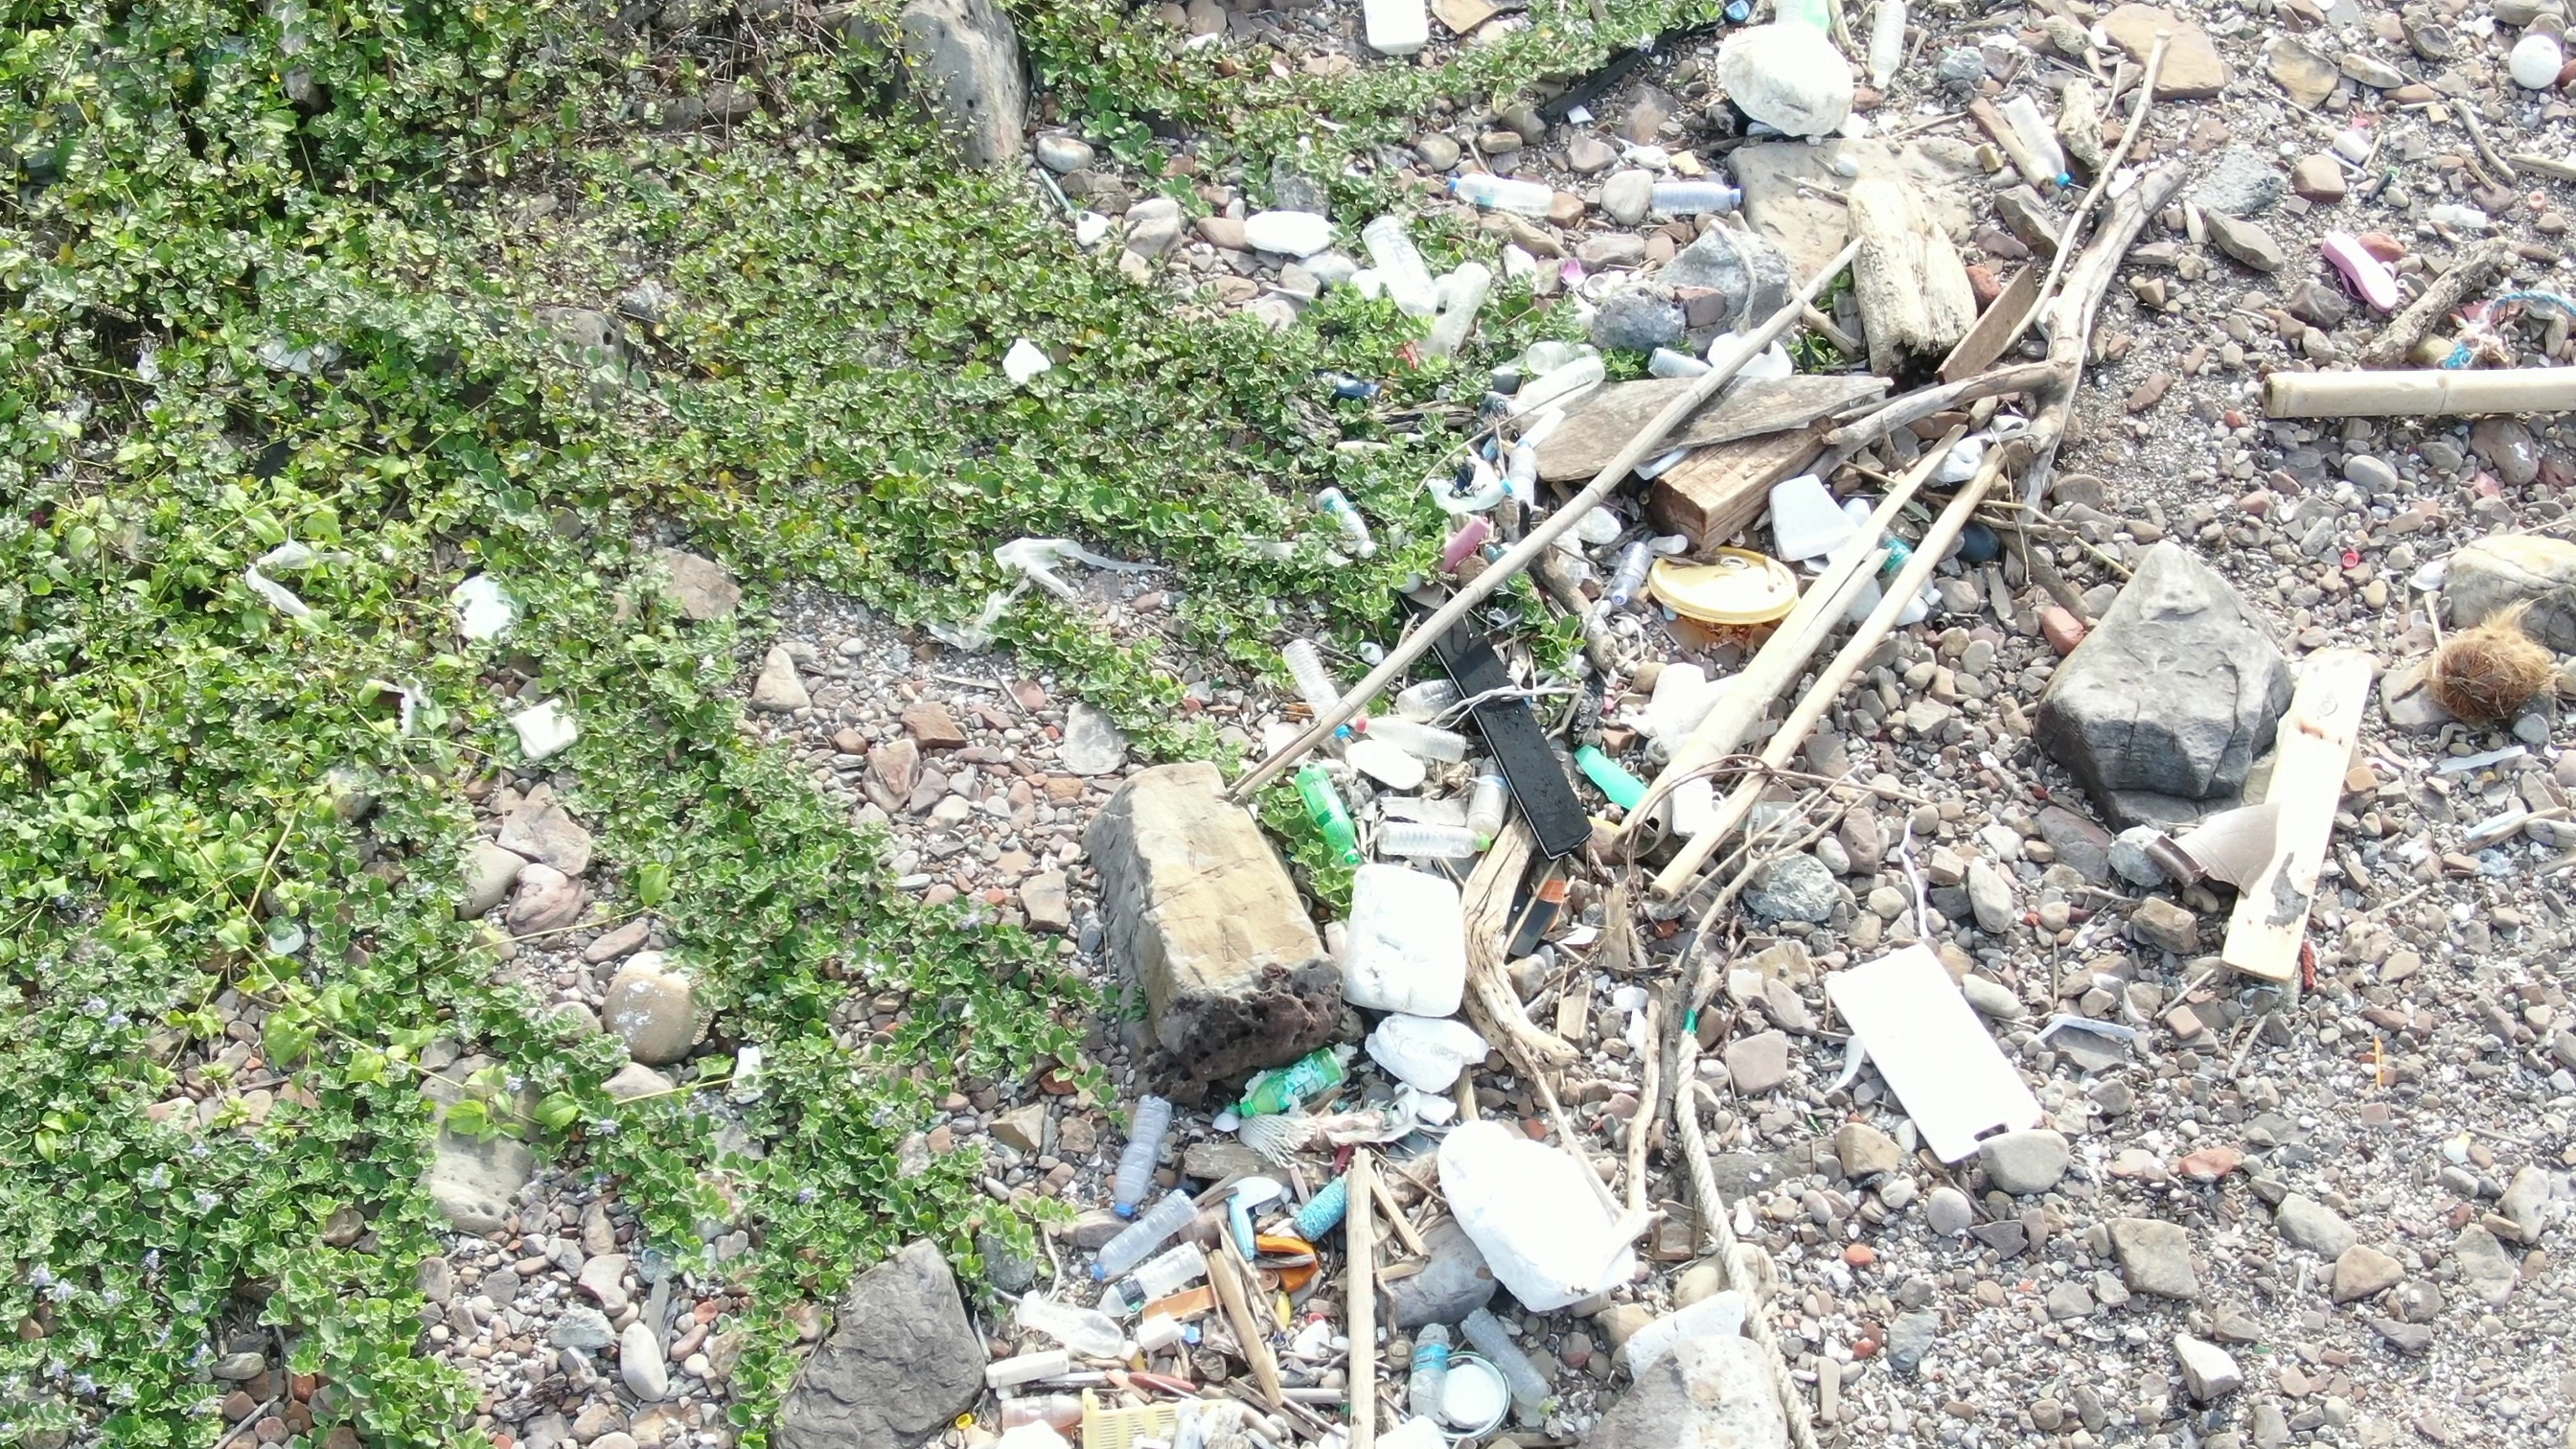bottle: (1845, 483, 1946, 616), (1274, 754, 1371, 869), (1999, 74, 2084, 198), (1106, 1088, 1177, 1228), (1394, 1293, 1456, 1449), (1226, 1042, 1343, 1118), (1290, 1159, 1371, 1253), (1569, 743, 1663, 823), (1444, 163, 1562, 216), (1635, 168, 1750, 218)
garbage: (1210, 7, 2102, 345), (1274, 471, 1946, 872), (1095, 1028, 1534, 1440), (2314, 200, 2525, 409)
